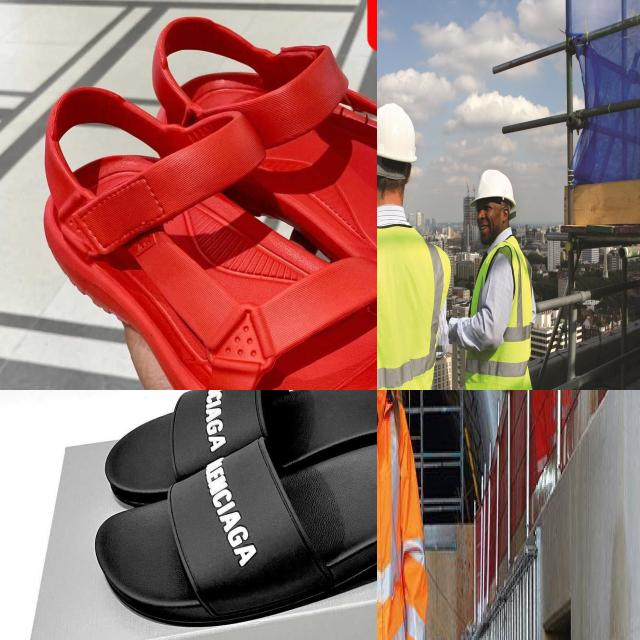No_Ear-Protection: (500, 203, 511, 225)
No_Glasses: (474, 200, 496, 217)
Sandals: (33, 2, 377, 390), (74, 390, 377, 640)
head_helmet: (377, 101, 417, 165), (468, 169, 517, 209)
person: (377, 120, 450, 390), (456, 172, 541, 390), (377, 390, 425, 640), (519, 390, 555, 469), (554, 390, 577, 453)
vest: (377, 390, 428, 640), (377, 222, 447, 390), (463, 237, 537, 390)
